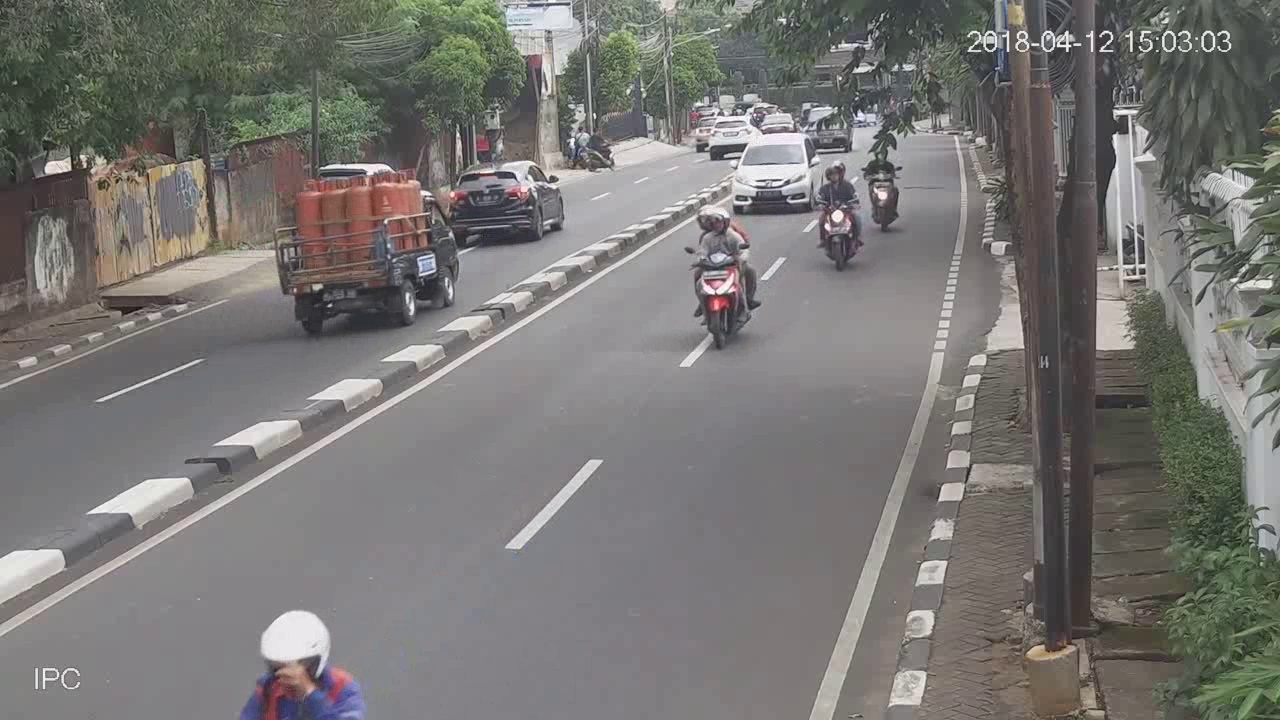car: (441, 155, 566, 239), (730, 135, 819, 215)
motorcycle: (684, 204, 762, 351), (812, 157, 866, 280), (858, 143, 903, 234)
truck: (273, 181, 464, 331)
